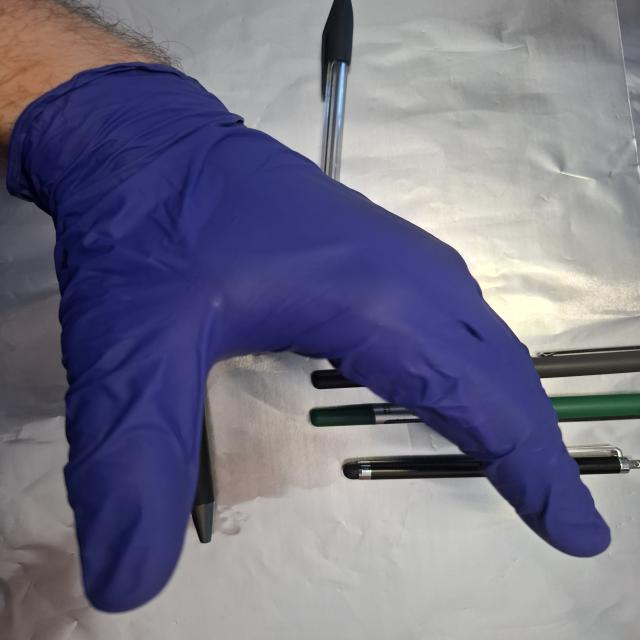glove_on: (20, 58, 615, 618)
